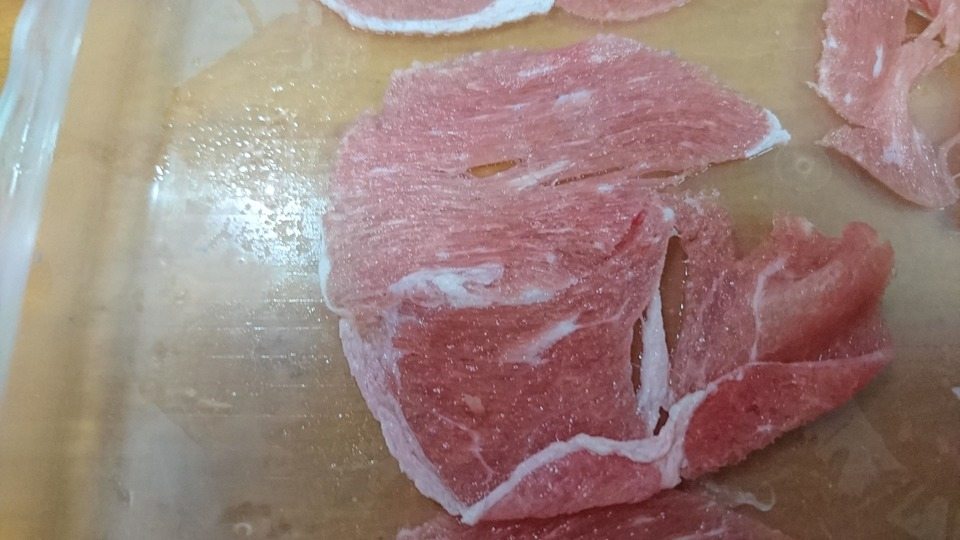restructured meat: (276, 26, 818, 502), (821, 1, 955, 201)
